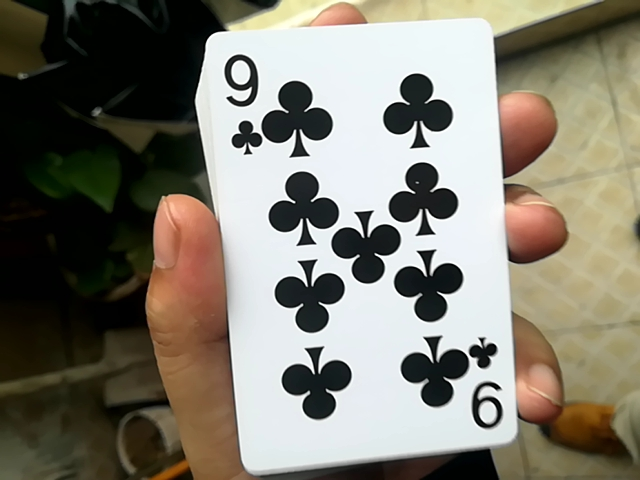mh 9: (190, 19, 518, 472)
